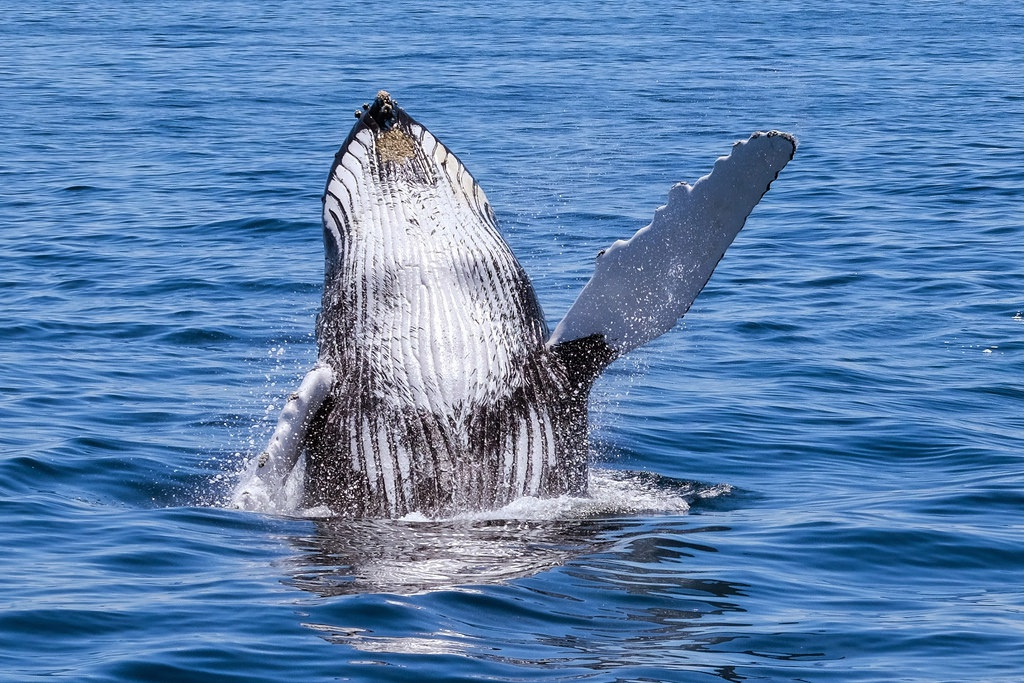humpback: (281, 89, 590, 502)
